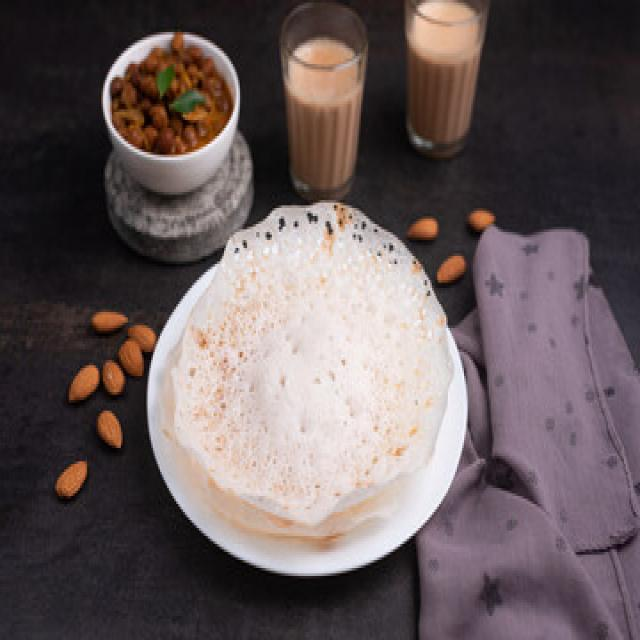AAPAM: (171, 205, 446, 523)
SUNDAL: (114, 32, 233, 149)
